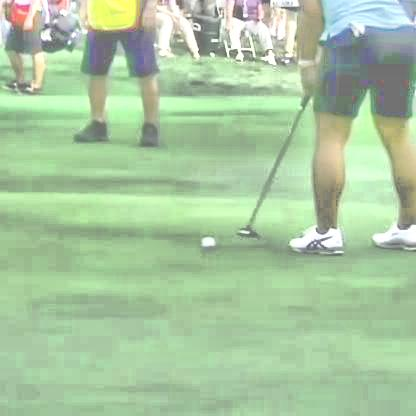golfball: (198, 235, 216, 251)
